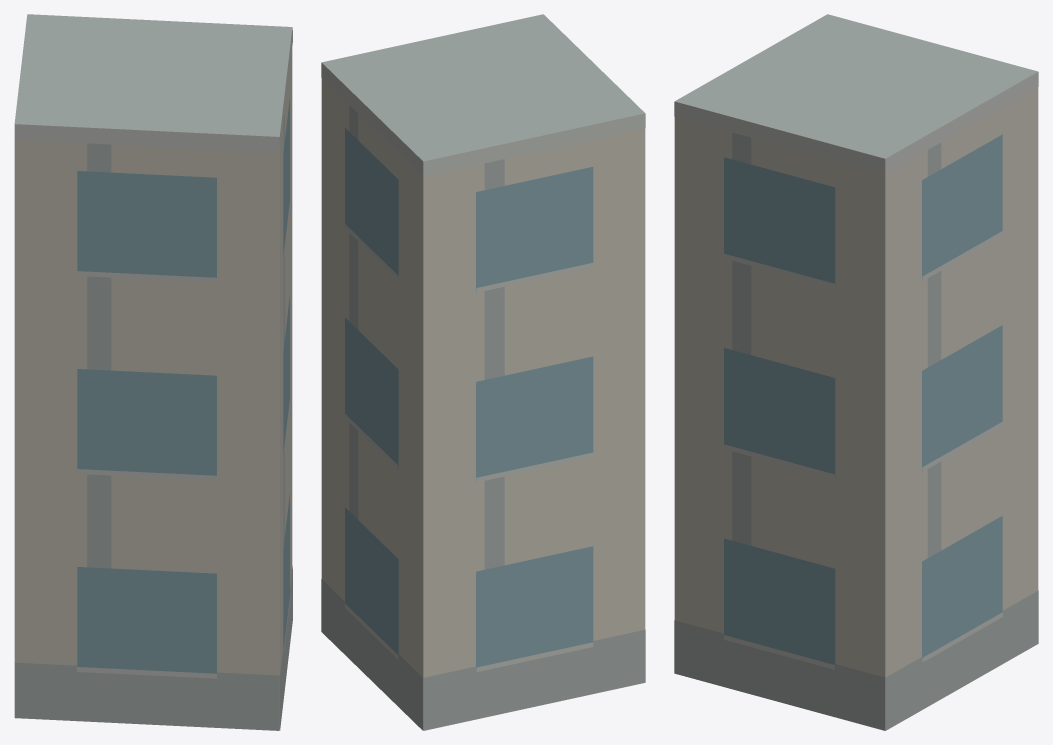
File: survey-upis-32571567.glb
3 views of the same model, side by side, from view 1: azimuth 30°, elevation 25°; view 2: azimuth 150°, elevation 25°; view 3: azimuth 270°, elevation 25° (orthographic). The views are drawn at different scales.
Parts seen in each view (by area): view 1: survey-upis-32571567.tmp; view 2: survey-upis-32571567.tmp; view 3: survey-upis-32571567.tmp.
Boxes of the visible parts, x1,y1,x2,y2 form: survey-upis-32571567.tmp: (14, 14, 292, 730); survey-upis-32571567.tmp: (321, 14, 645, 730); survey-upis-32571567.tmp: (674, 14, 1038, 730).
Size of the model in its own units: 4.97 by 9.15 by 5.29.
